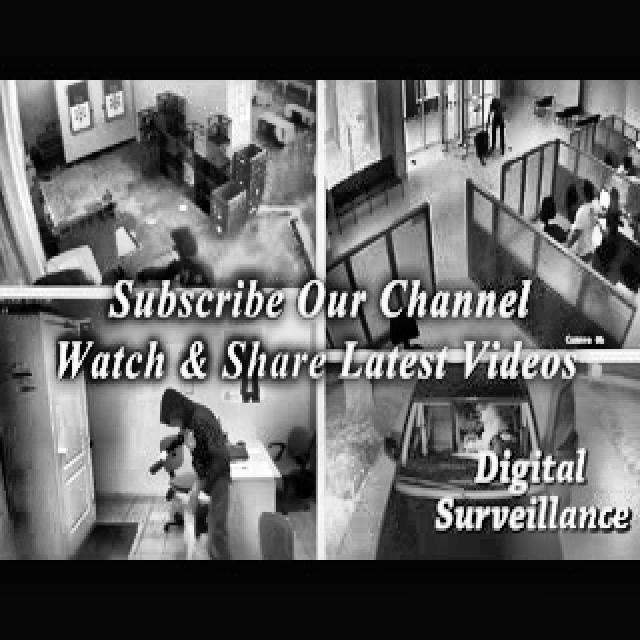burglary: (130, 223, 220, 287)
